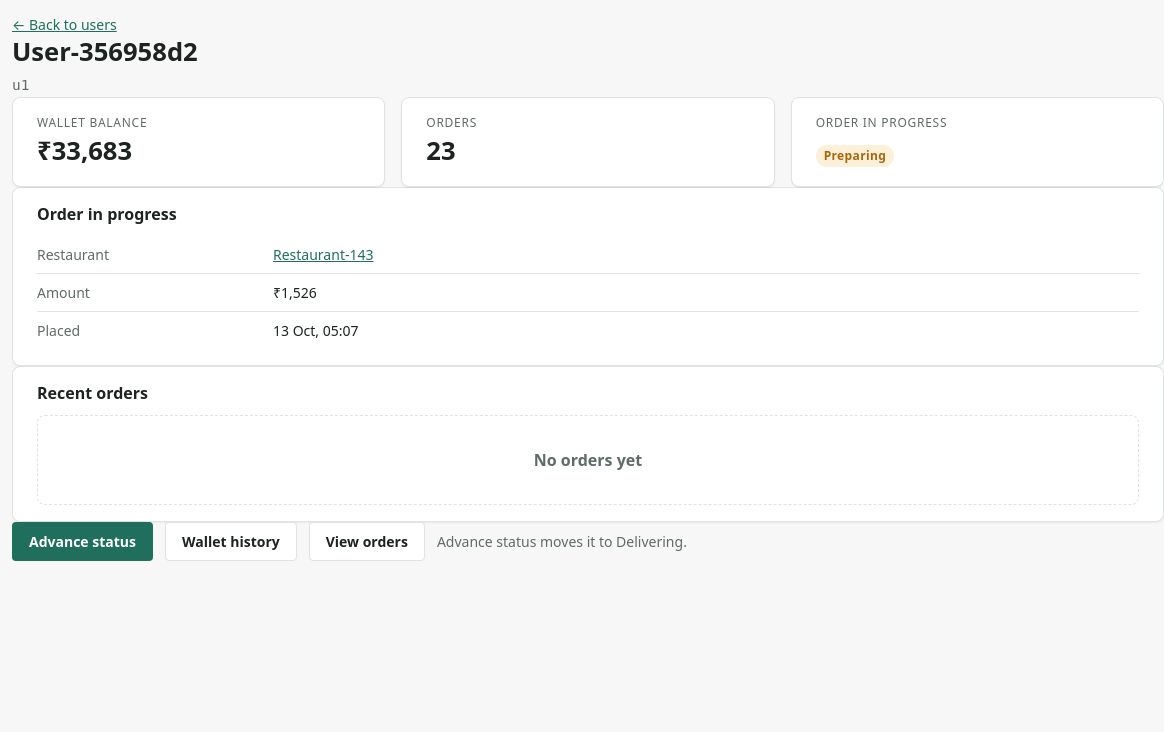
Test case: Customer page › shows the API's message above the buttons when advancing fails
Click the button "Advance status": {"x": 82, "y": 542} [12, 522, 153, 561]
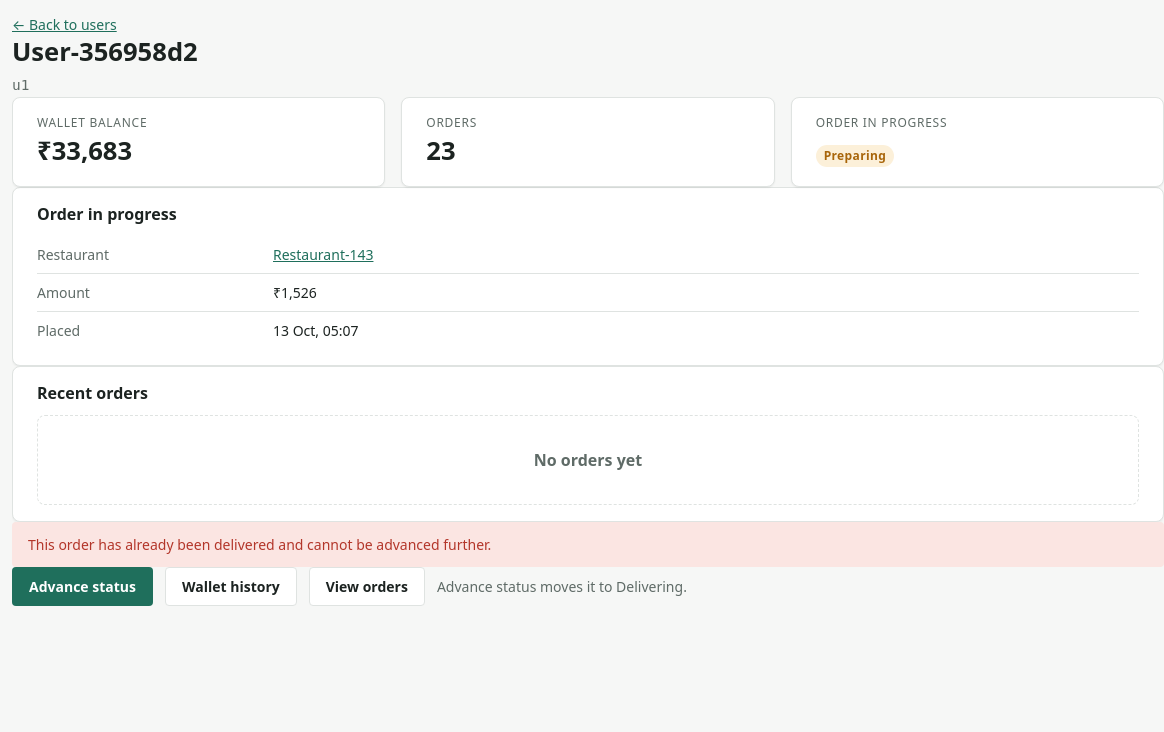
Expected: the button "Advance status" is enabled, [12, 567, 153, 606]
Expected: the message shows "This order has already been delivered", [28, 535, 491, 554]
